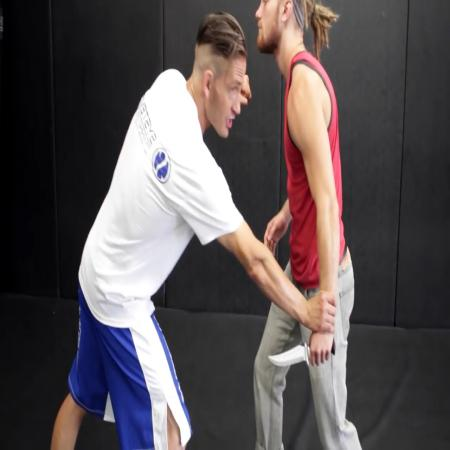long weapon: (266, 330, 339, 373)
